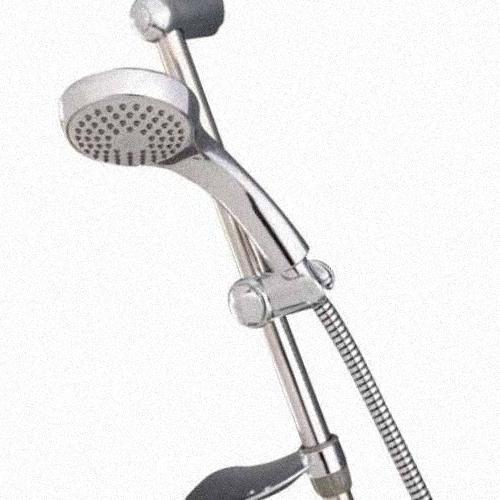Ducha: (44, 0, 443, 499)
